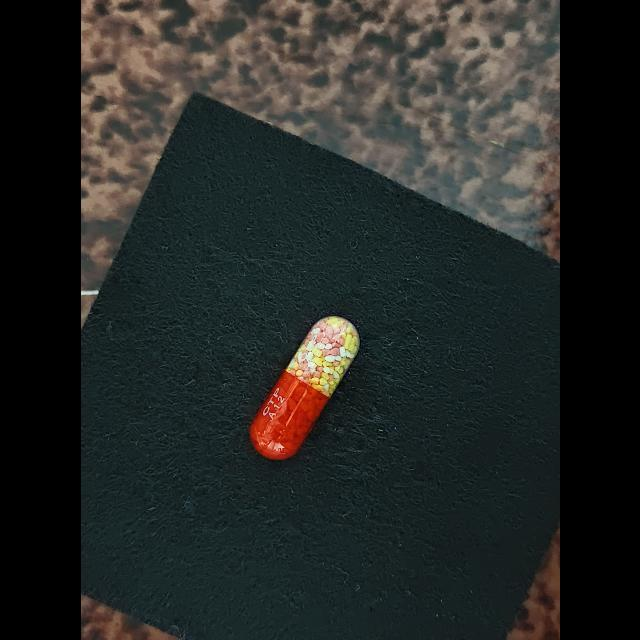Intact Capsule: (249, 316, 359, 460)
